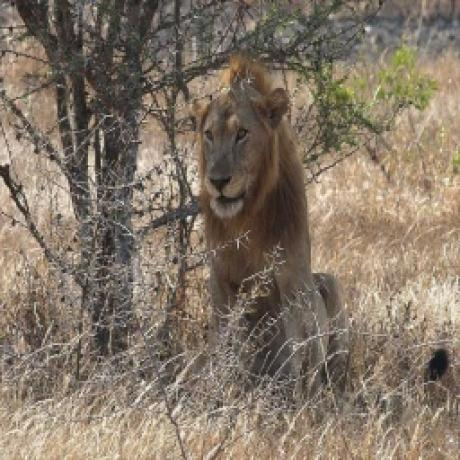Lion: (185, 48, 344, 382)
